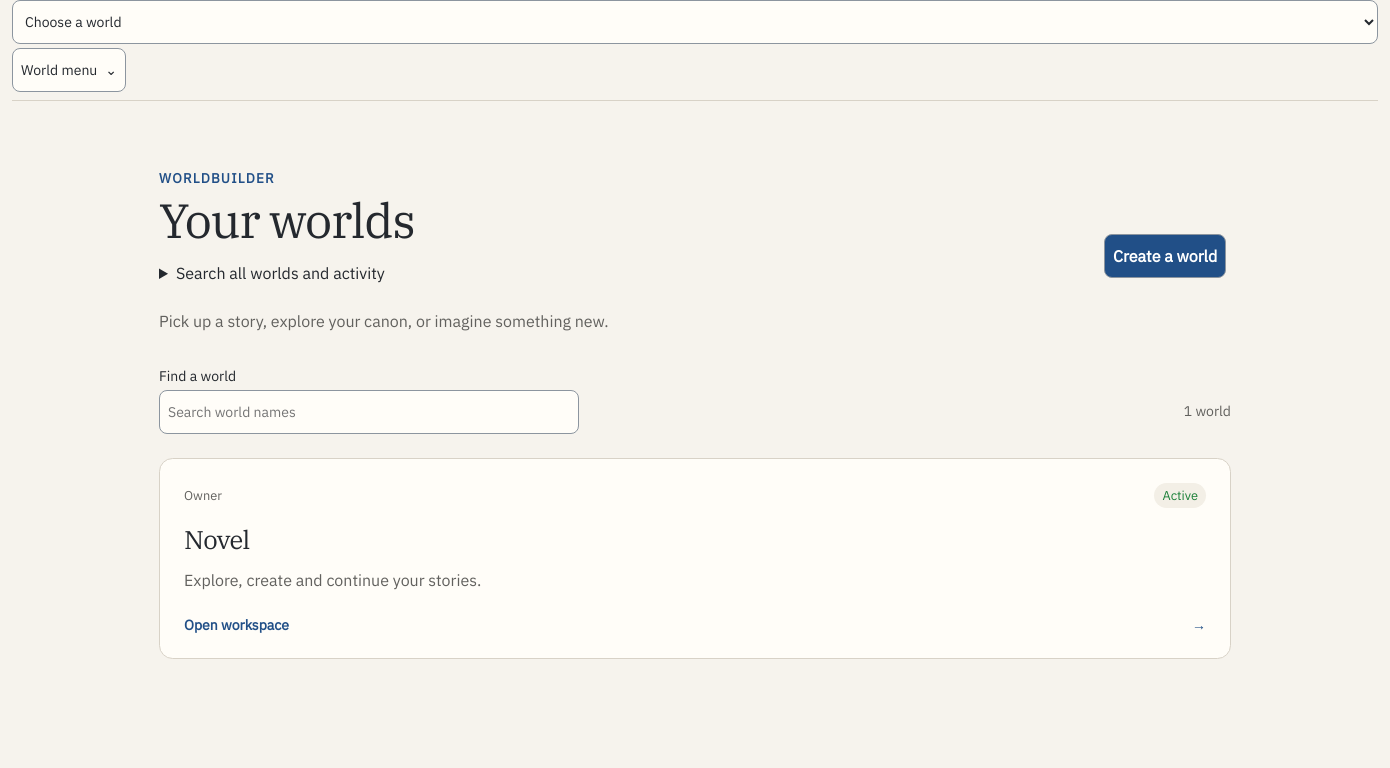
Scenario: Worldbuilder › does not expose self-approval for an owner
Step 1. Select "Novel" in the dropdown named "Open world" → (695, 22), box [12,0,1378,44]
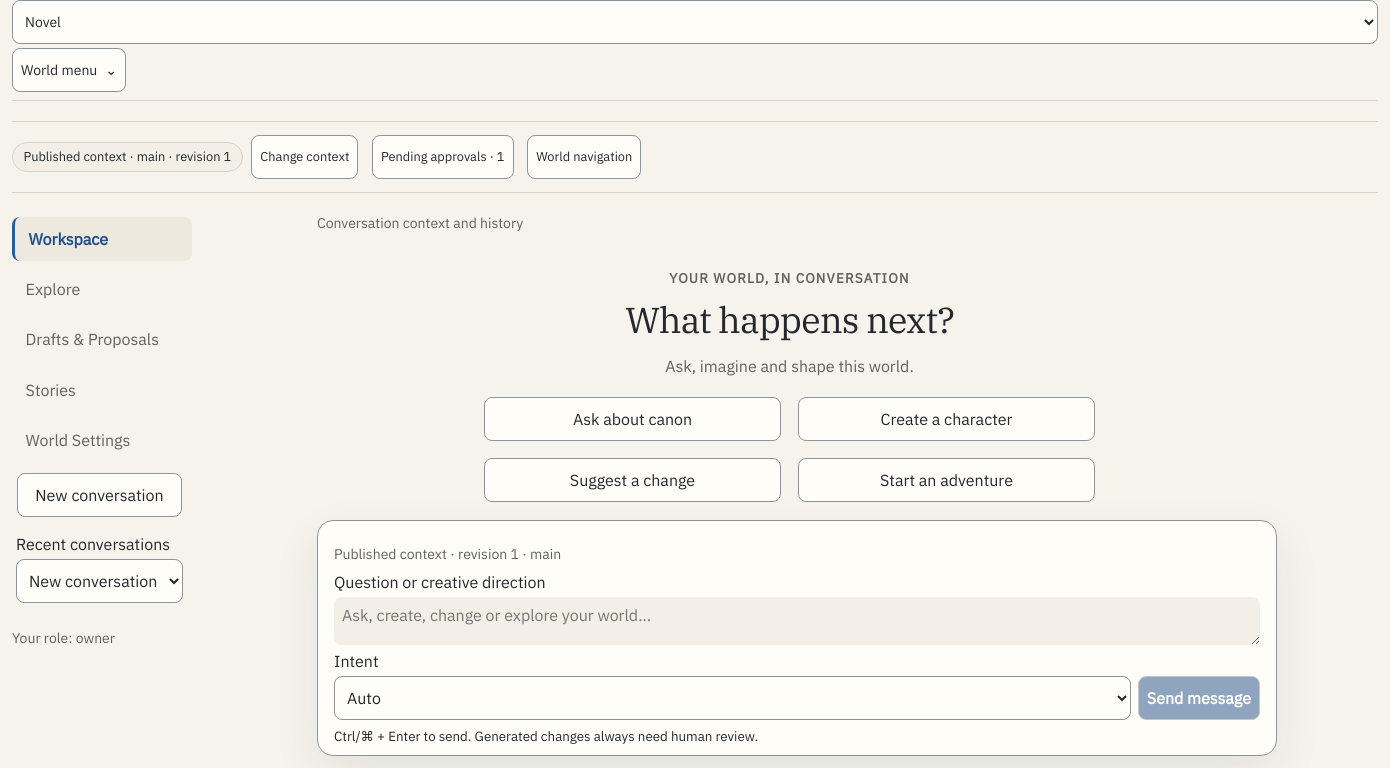
Step 2. Click the link "Drafts & Proposals" → (92, 339), box [26,329,159,349]
(page scrolled)
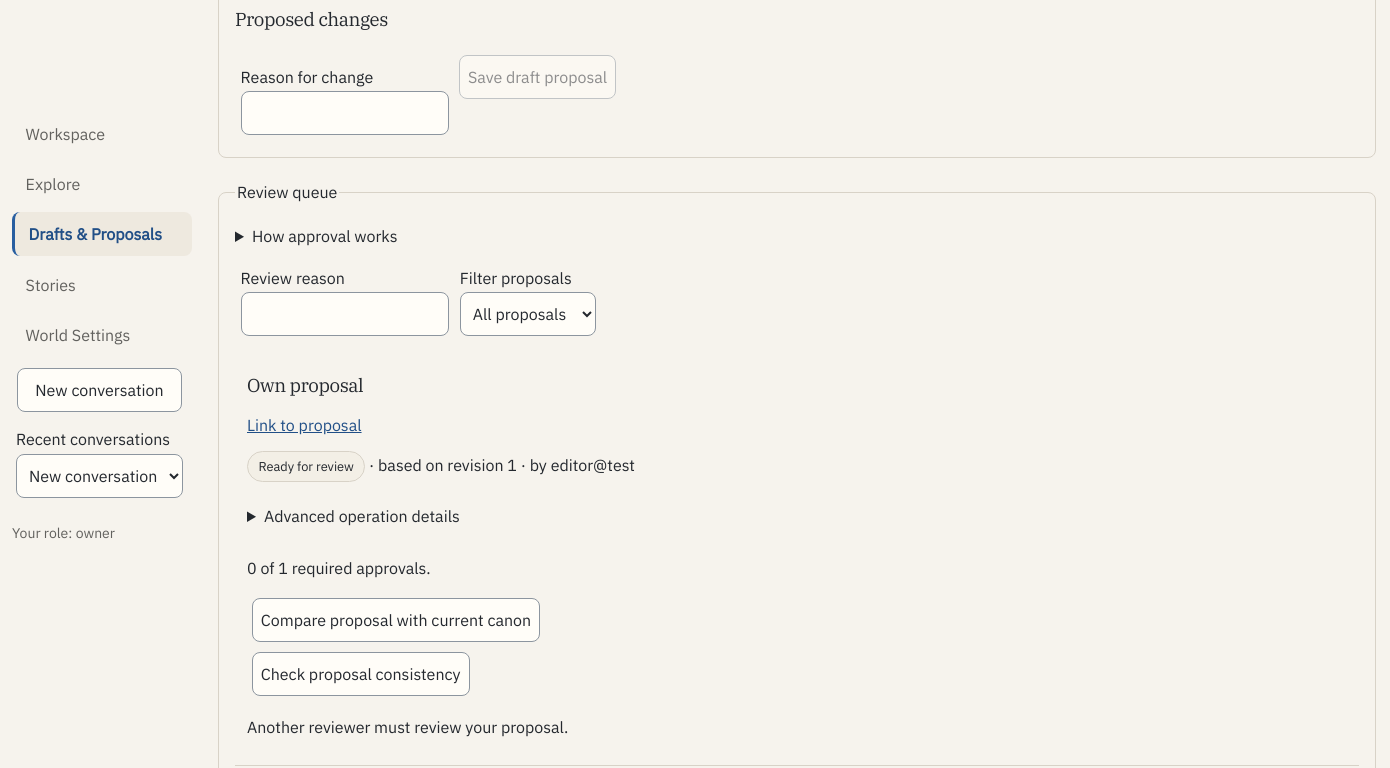
Check: the heading "Own proposal" is shown, box [247,373,363,397]
